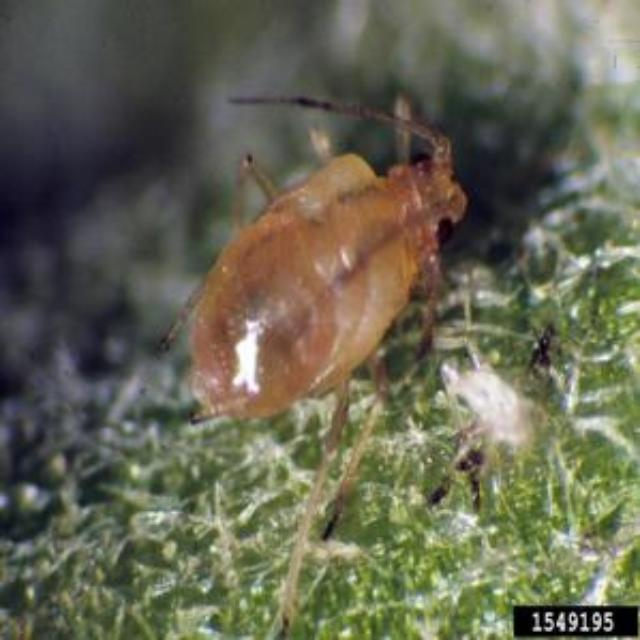Green peach aphid: (119, 48, 526, 506)
